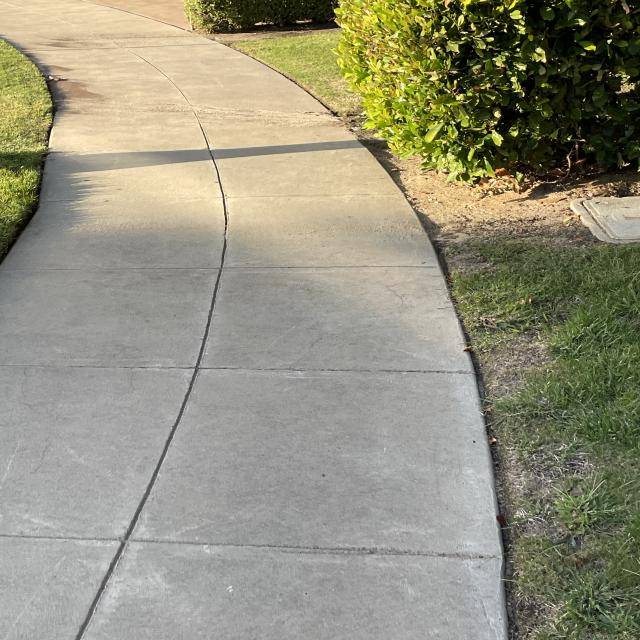walkway: (21, 405, 447, 562), (9, 292, 452, 416), (26, 218, 420, 323), (49, 134, 364, 258), (72, 86, 308, 173), (55, 45, 230, 140)
walkway-edge: (413, 190, 555, 640), (352, 100, 458, 270), (0, 31, 71, 270), (214, 26, 368, 131)
